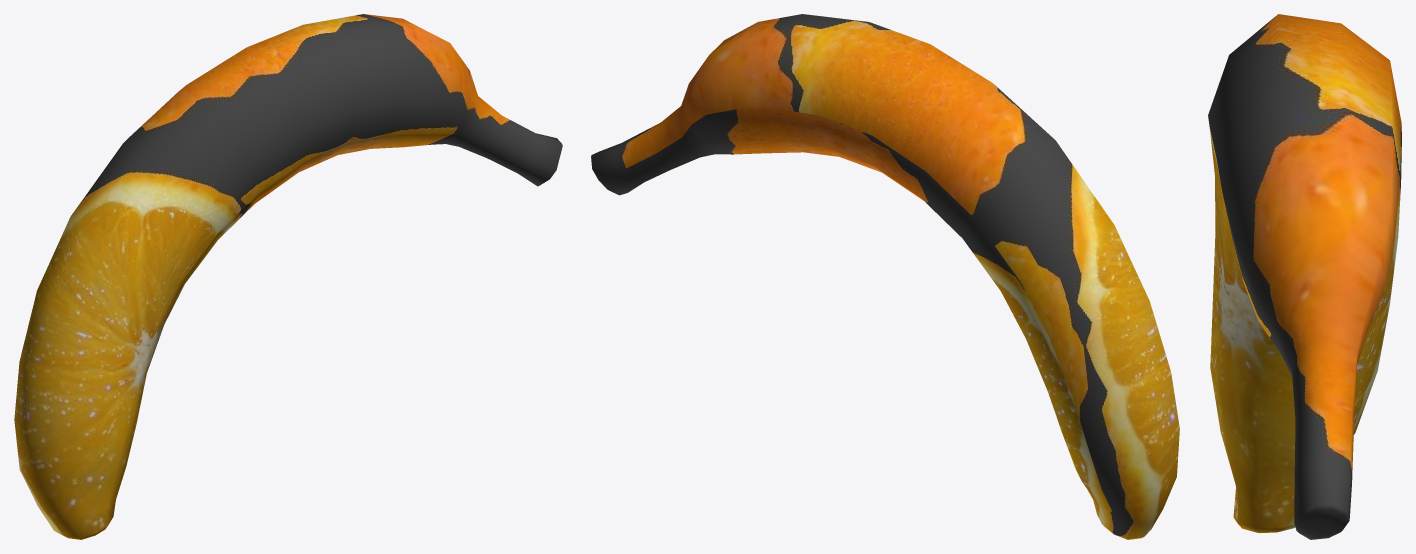
3 views of the same model, side by side, from view 1: azimuth 30°, elevation 25°; view 2: azimuth 150°, elevation 25°; view 3: azimuth 270°, elevation 25° (orthographic). The views are drawn at different scales.
Size of the model in its own units: 1 by 0.7592 by 0.2041.
